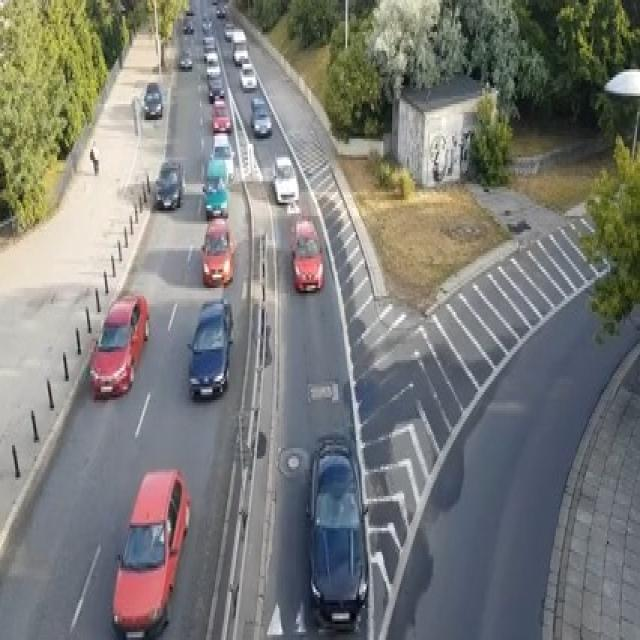car: (111, 467, 191, 637), (305, 432, 368, 624), (88, 291, 148, 397), (186, 296, 233, 400), (290, 216, 323, 291), (200, 216, 234, 285), (153, 160, 182, 208), (272, 154, 299, 202), (210, 134, 234, 182), (202, 176, 228, 219), (249, 96, 272, 136), (204, 155, 228, 189), (141, 80, 162, 117), (210, 98, 232, 130), (239, 61, 257, 91), (207, 77, 224, 101), (206, 54, 221, 78), (233, 45, 248, 64), (179, 48, 192, 69), (222, 21, 233, 40), (182, 19, 194, 32), (203, 35, 215, 48), (201, 19, 212, 32), (215, 3, 225, 16), (185, 5, 194, 16)
